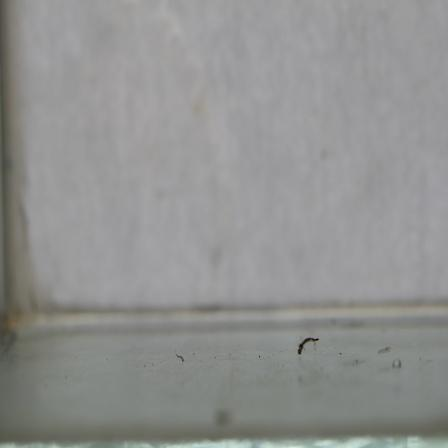Jentik-Nyamuk: (295, 335, 323, 358)
